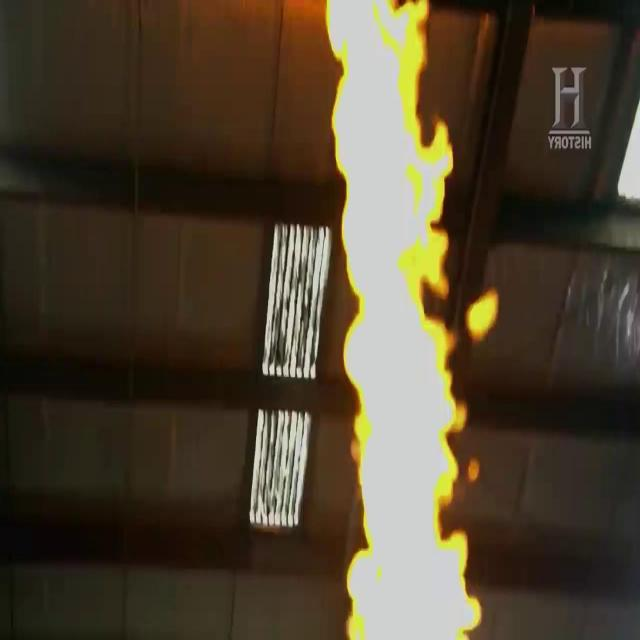fire: (322, 7, 483, 640)
